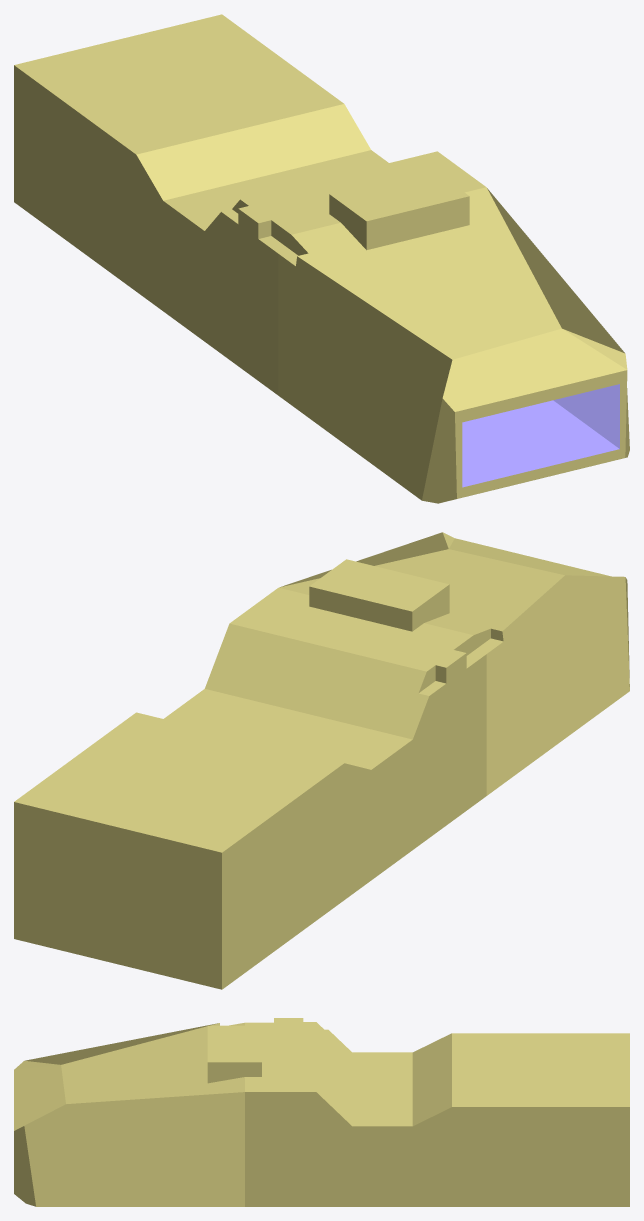
3 renders of one model, top to bottom at view 1: azimuth 30°, elevation 25°; view 2: azimuth 150°, elevation 25°; view 3: azimuth 270°, elevation 25°, orthographic. The views are drawn at different scales.
Visible parts, largest first — view 1: Cube; view 2: Cube; view 3: Cube.
Boxes of the visible parts, bbox=[...] form: Cube: bbox=[14, 14, 629, 503]; Cube: bbox=[14, 532, 629, 989]; Cube: bbox=[14, 1018, 629, 1206].
Bounding box in the file's own units: 101 × 82.43 × 356.
